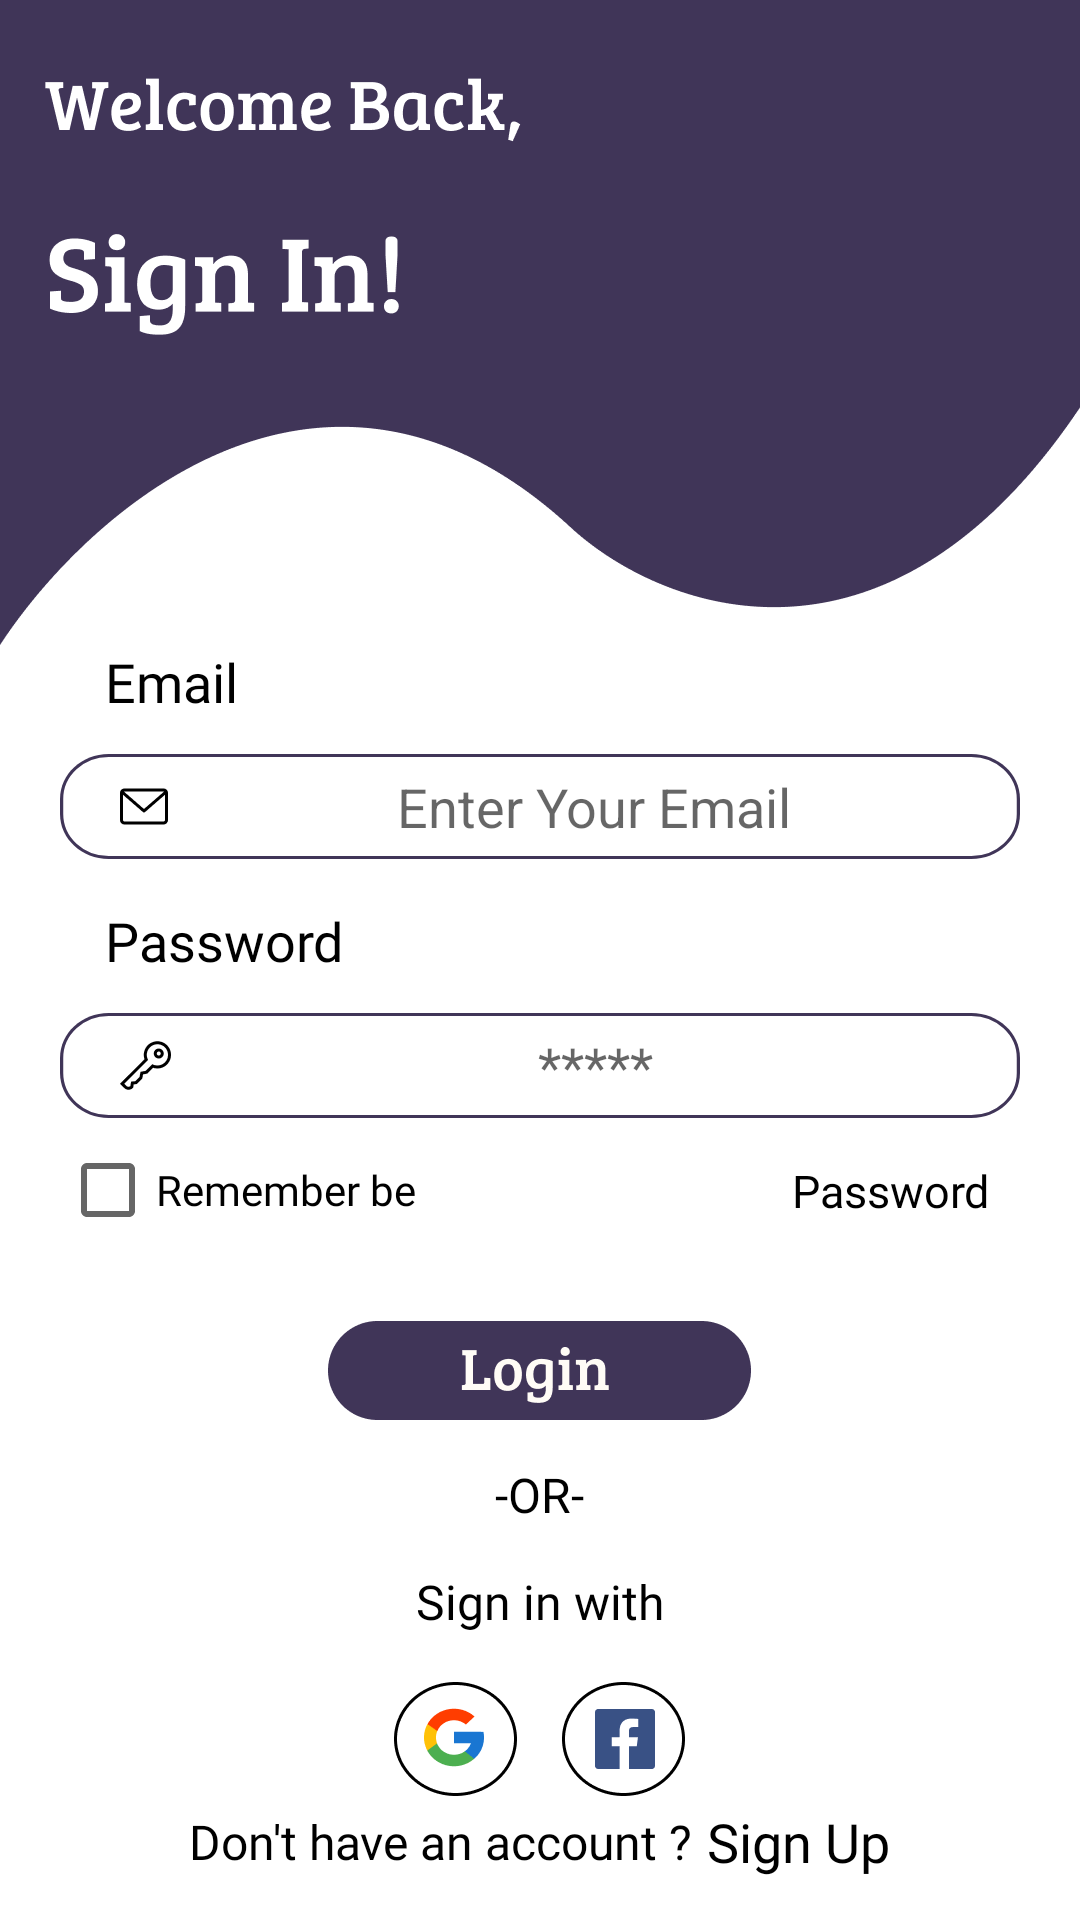

Icons on this 1080*1920 Android screen, each with its box as (x1, y1, x2, y2):
key: (120, 1041, 171, 1090)
pesan: (120, 788, 168, 825)
